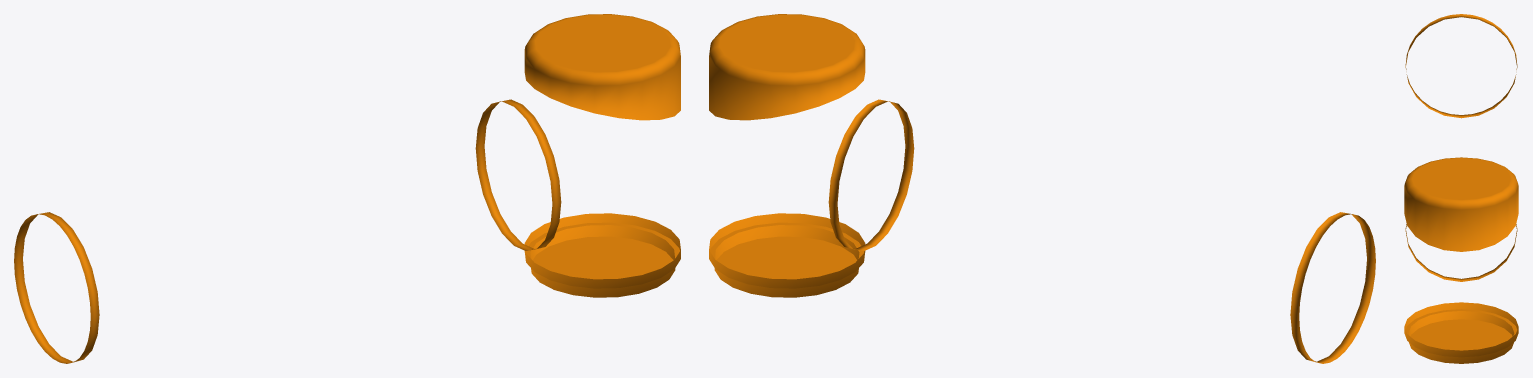
3 renders of one model, left to right at view 1: azimuth 30°, elevation 25°; view 2: azimuth 150°, elevation 25°; view 3: azimuth 270°, elevation 25°, orthographic. The views are drawn at different scales.
Bounding box in the file's own units: 0.3483 × 0.1203 × 0.0766.
